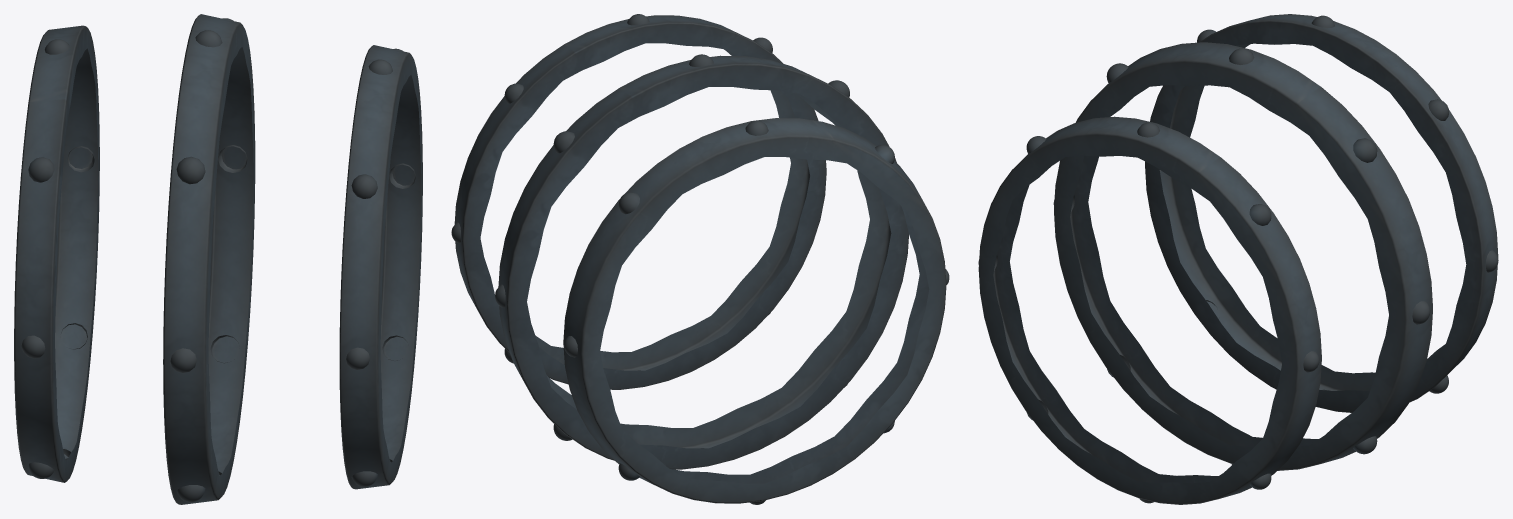
3 renders of one model, left to right at view 1: azimuth 30°, elevation 25°; view 2: azimuth 150°, elevation 25°; view 3: azimuth 270°, elevation 25°, orthographic. The views are drawn at different scales.
Visible parts, largest first — view 1: Cylinder.113; view 2: Cylinder.113; view 3: Cylinder.113.
Part boxes in pixels (x1,y1,x2,y2): Cylinder.113: [14, 14, 422, 504]; Cylinder.113: [451, 14, 949, 504]; Cylinder.113: [978, 14, 1498, 504].
Size of the model in its own units: 158 by 145 by 163.
1 material, 1 textured.
